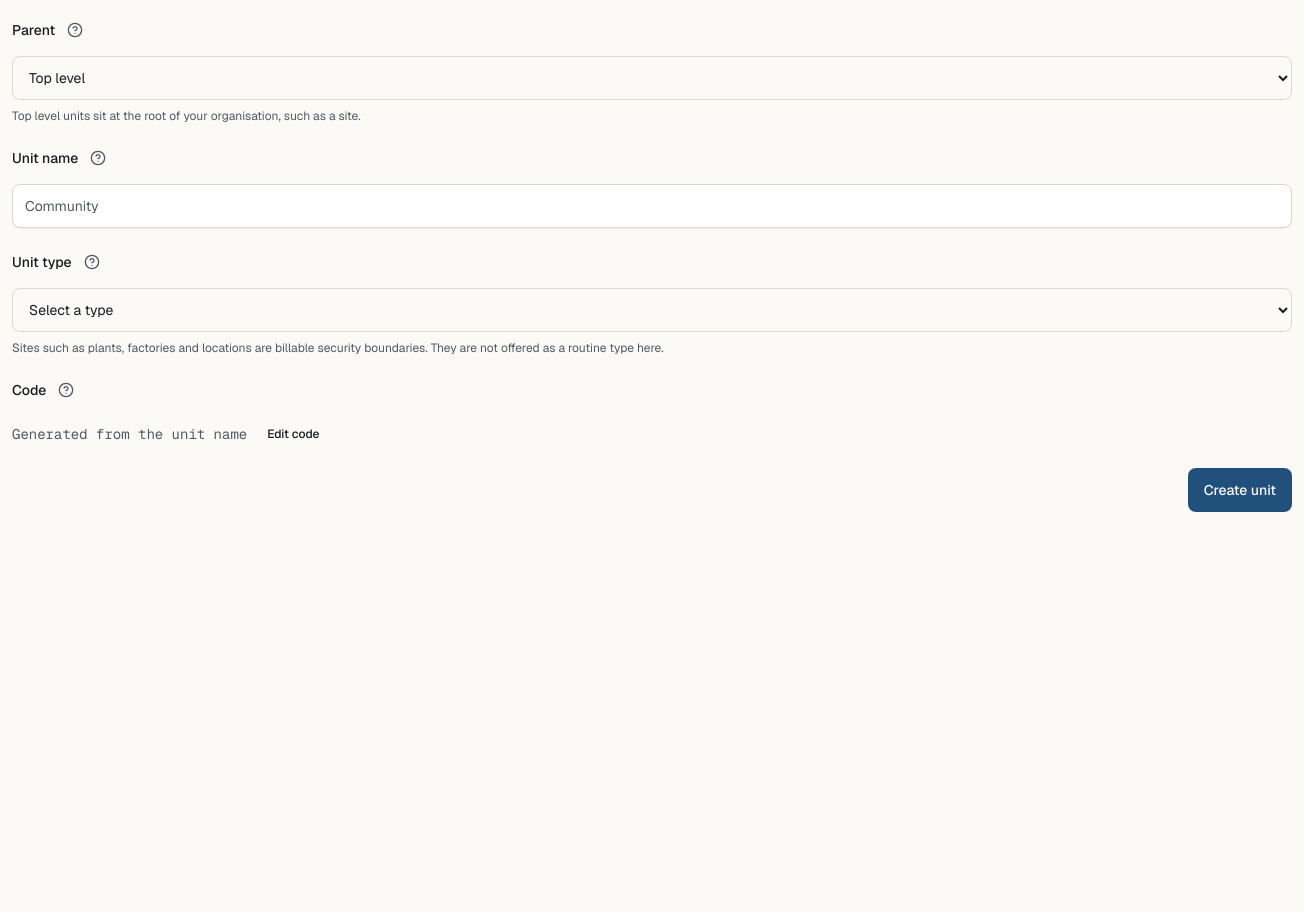
it: UnitCreateForm › explains exhausted site capacity and links billing administrators to Billing
Step 1. Type "Second Site" into the field with placeholder "Community" → {"x": 652, "y": 206}, box left=12, top=184, right=1292, bottom=228
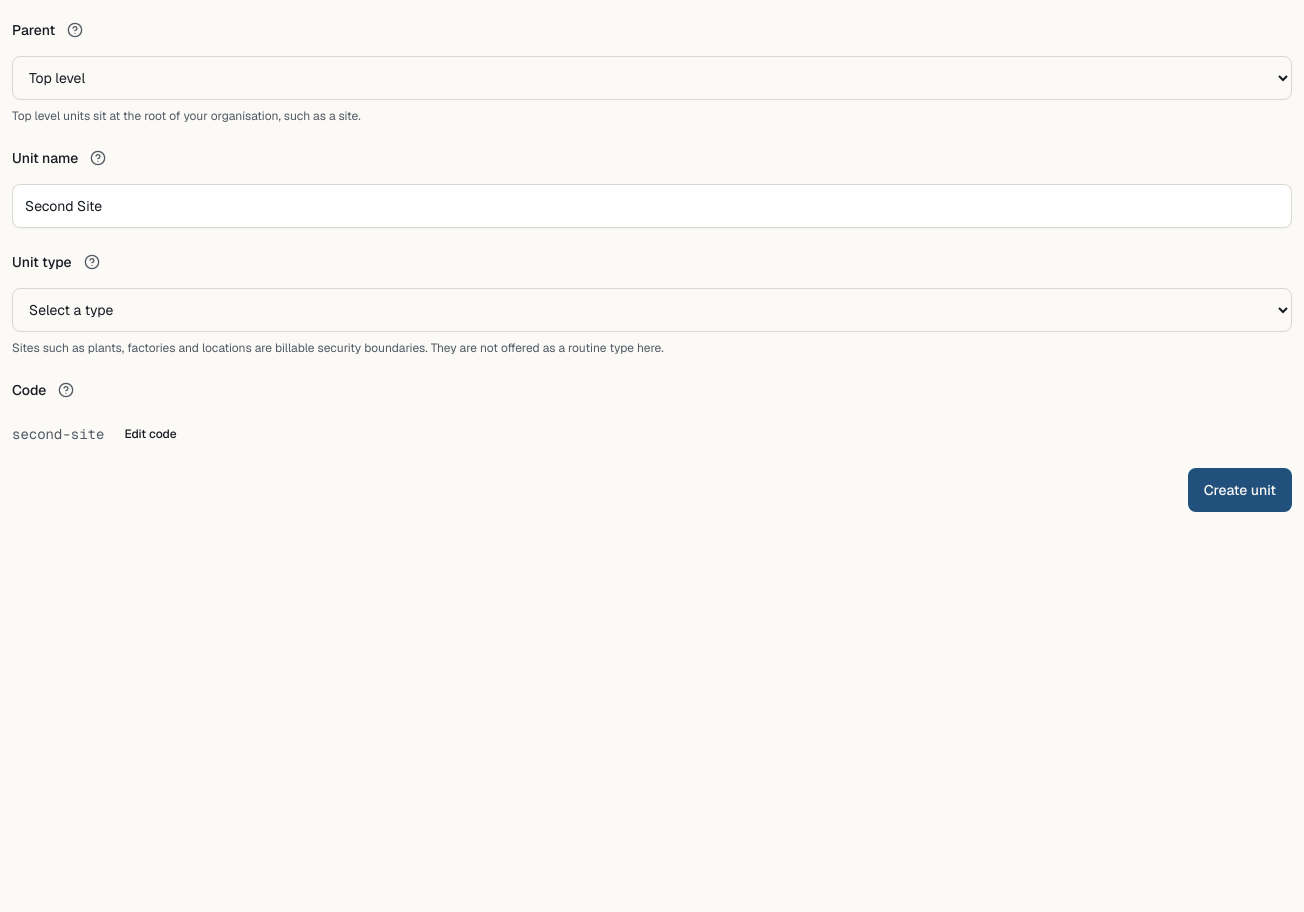
Step 2. Select "Custom" in the dropdown with test id "unit-type-choice" → {"x": 652, "y": 310}, box left=12, top=288, right=1292, bottom=332
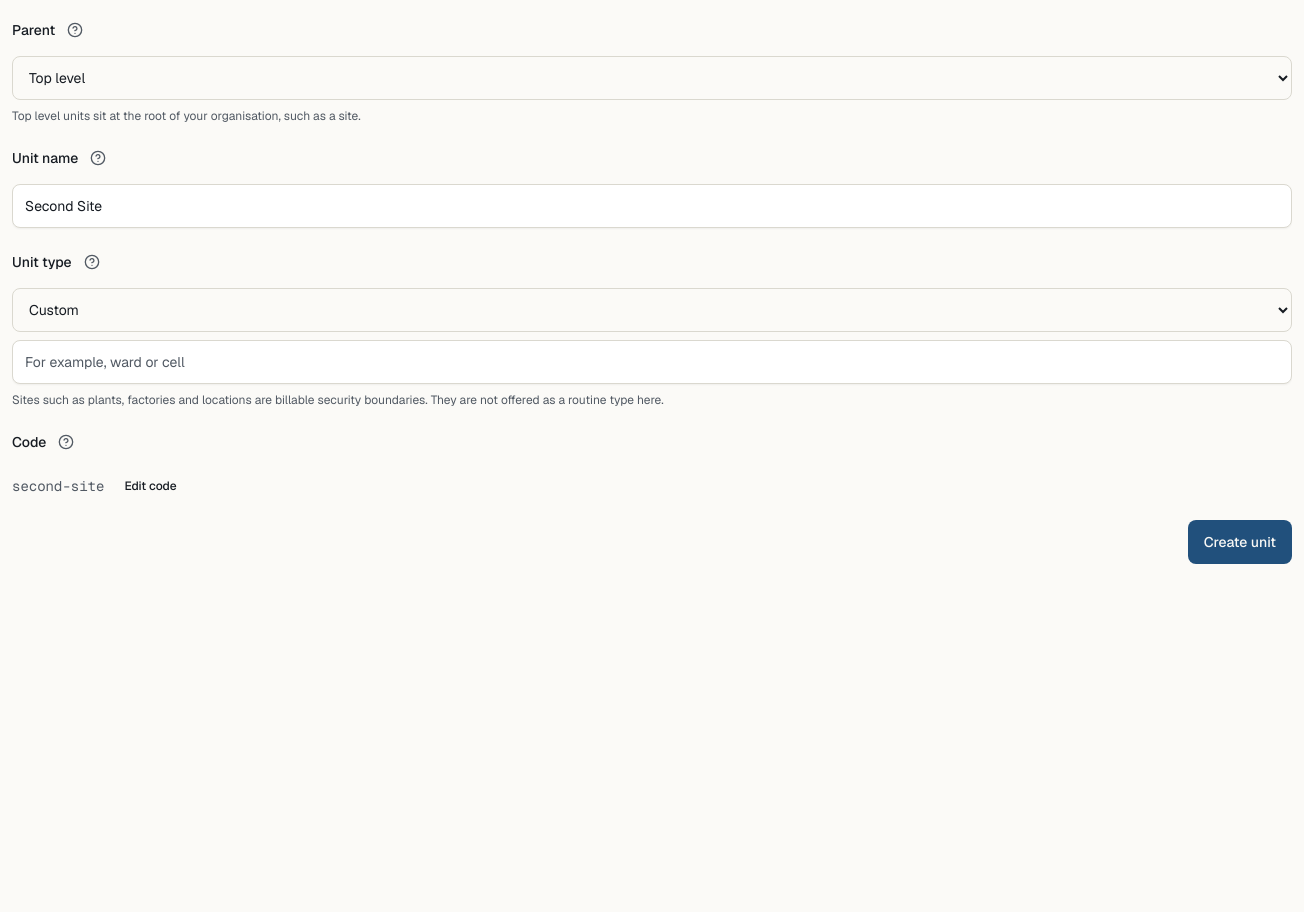
Step 3. Type "site" into the field with placeholder "For example, ward or cell" → {"x": 652, "y": 362}, box left=12, top=340, right=1292, bottom=384
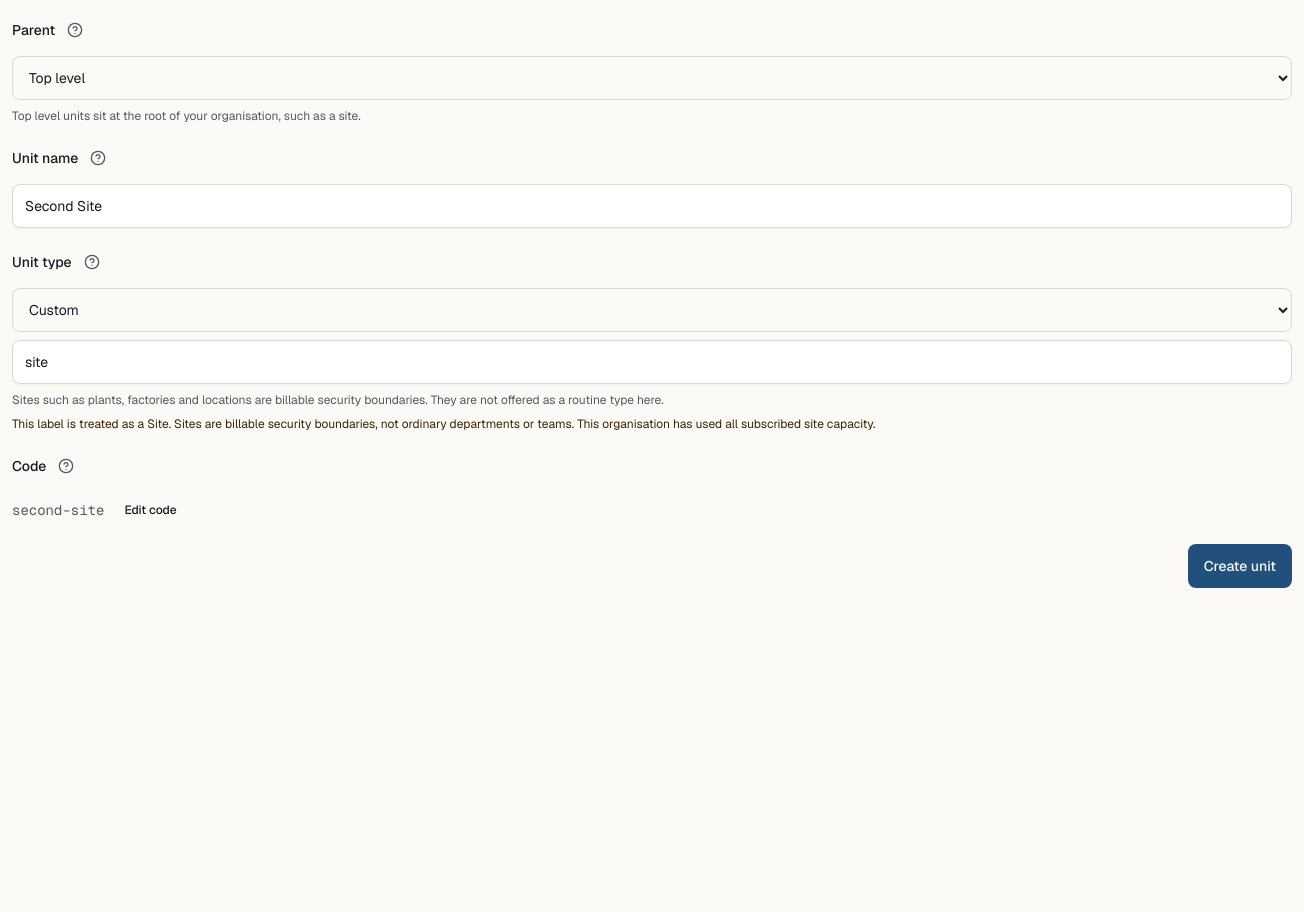
expect the message with test id "site-type-capacity-hint" shows "teams. This organisation has used all subscribed site capacity.": met, box left=12, top=416, right=875, bottom=432
Step 4. Click the button with test id "unit-create-submit" → {"x": 1240, "y": 566}, box left=1188, top=544, right=1292, bottom=588
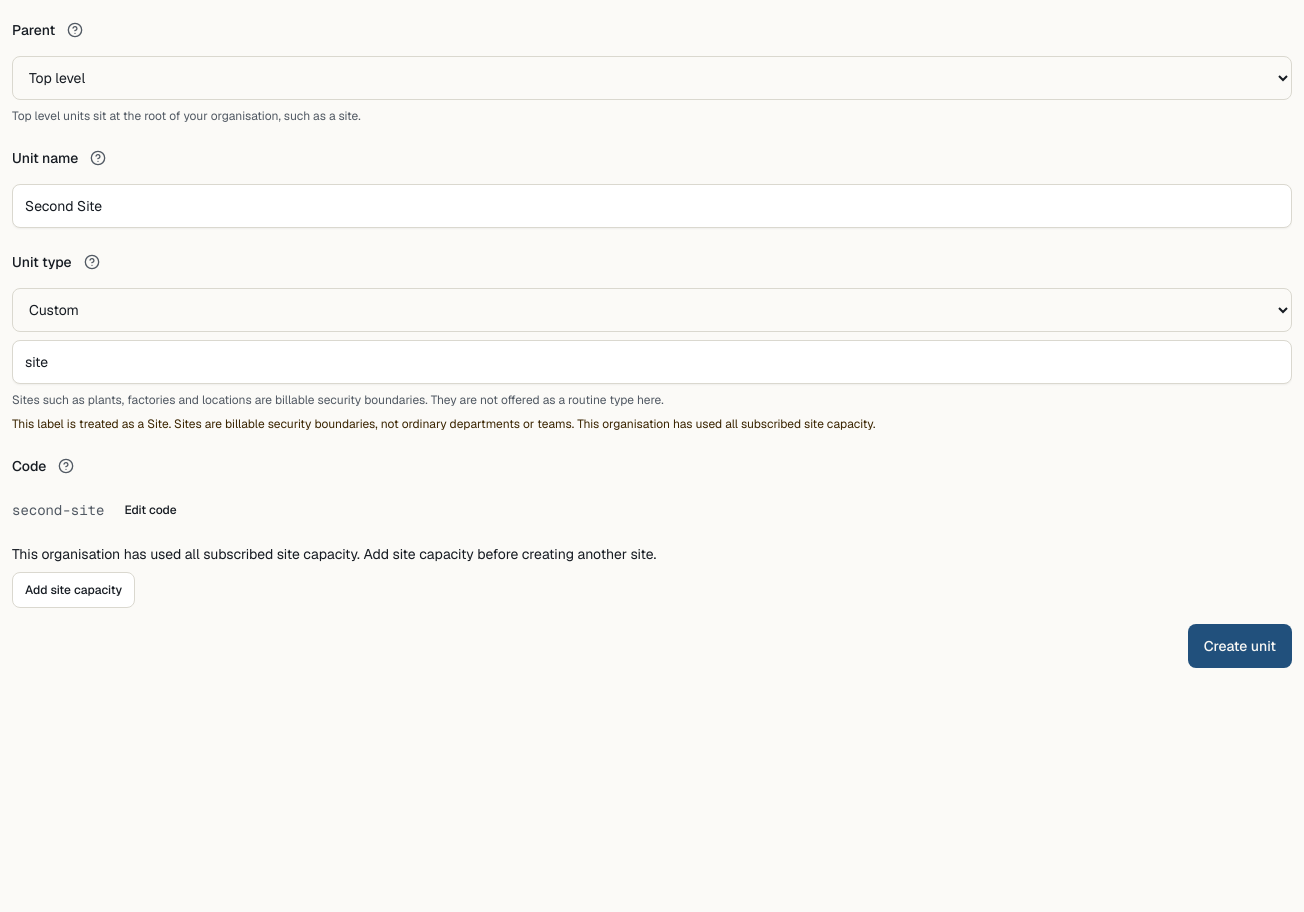
expect the message with test id "site-capacity-error" shows "used all subscribed site capacity": met, box left=12, top=545, right=656, bottom=563
